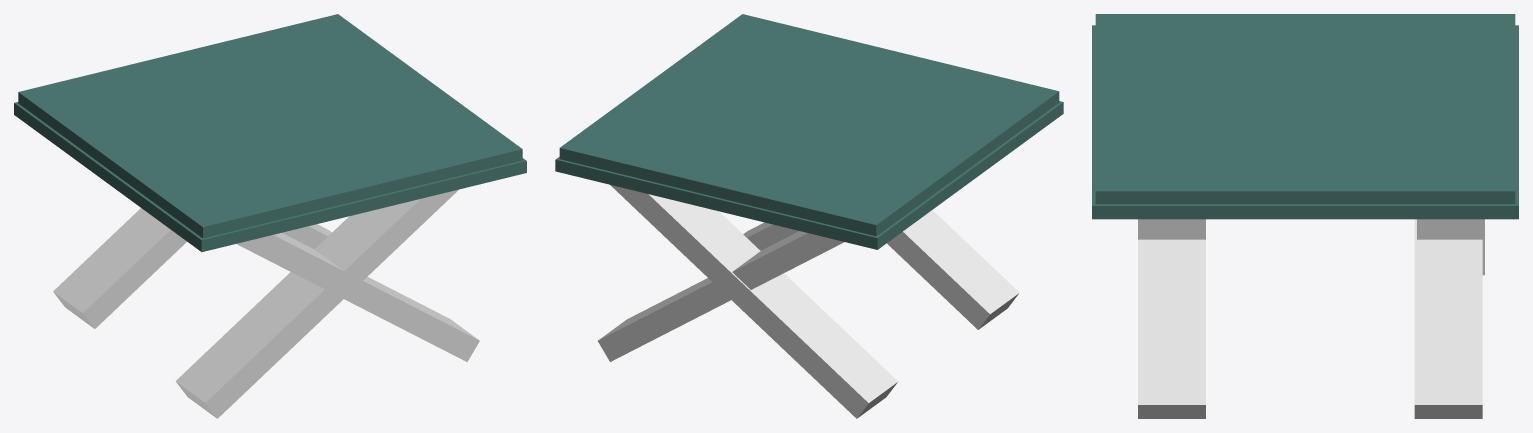
File: BedTable.fbx
3 views of the same model, side by side, from view 1: azimuth 30°, elevation 25°; view 2: azimuth 150°, elevation 25°; view 3: azimuth 270°, elevation 25° (orthographic). The views are drawn at different scales.
Visible parts, largest first — view 1: Table, Table.003, LED, Table.001, Table.004, Table.002; view 2: Table, Table.004, LED, Table.003, Table.002, Table.001; view 3: Table, Table.002, Table.001, LED, Table.004, Table.003.
Boxes of the visible parts, left/top/right/bottom form: Table: left=18, top=14, right=522, bottom=238; Table.003: left=175, top=189, right=458, bottom=418; LED: left=14, top=102, right=526, bottom=251; Table.001: left=236, top=233, right=479, bottom=361; Table.004: left=53, top=208, right=186, bottom=328; Table.002: left=282, top=224, right=331, bottom=249; Table: left=559, top=14, right=1059, bottom=236; Table.004: left=610, top=185, right=898, bottom=418; LED: left=555, top=101, right=1063, bottom=249; Table.003: left=887, top=210, right=1019, bottom=329; Table.002: left=598, top=231, right=844, bottom=361; Table.001: left=743, top=222, right=798, bottom=250; Table: left=1095, top=14, right=1515, bottom=204; Table.002: left=1414, top=219, right=1482, bottom=418; Table.001: left=1138, top=239, right=1205, bottom=418; LED: left=1092, top=25, right=1518, bottom=219; Table.004: left=1417, top=219, right=1484, bottom=275; Table.003: left=1138, top=219, right=1205, bottom=239.
Size of the model in its own units: 122 by 78.13 by 122.
